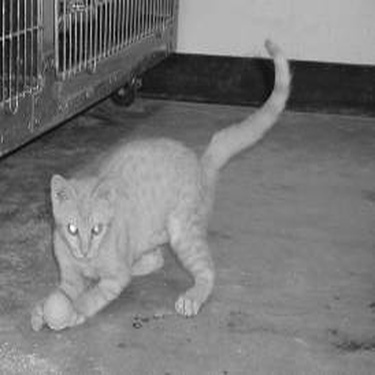cat: (24, 36, 291, 335)
